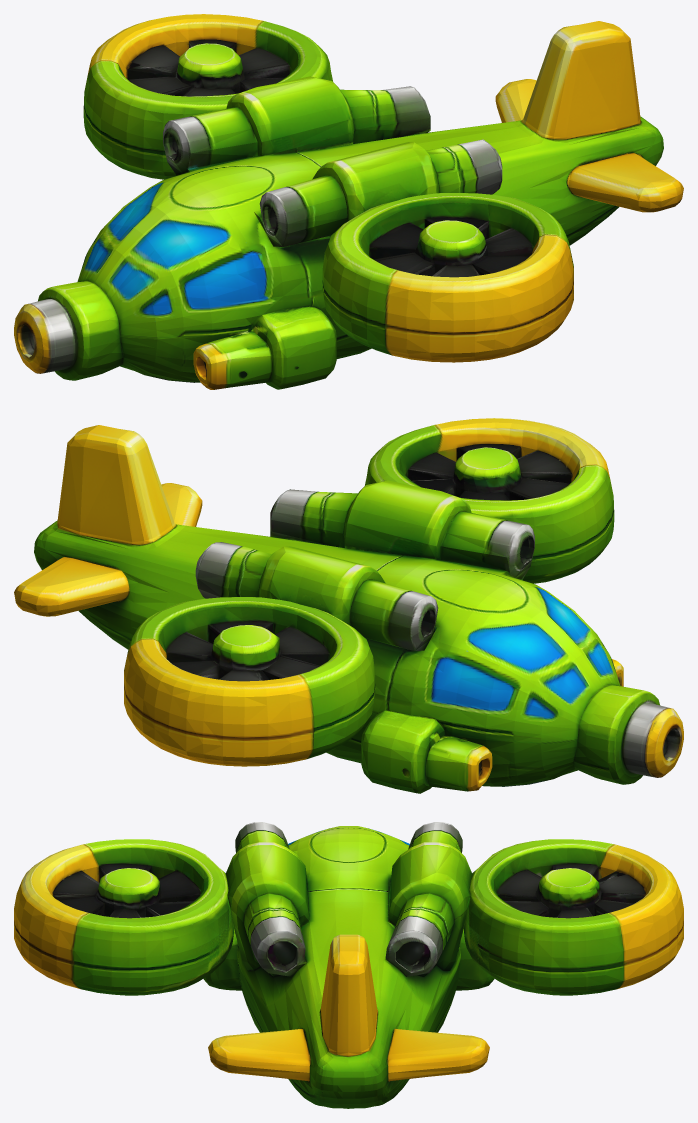
Rendered from Meshy_AI_Lime_Green_Toy_Helico_0705085950_texture.glb.
3 views of the same model, one above another, from view 1: azimuth 30°, elevation 25°; view 2: azimuth 150°, elevation 25°; view 3: azimuth 270°, elevation 25° (orthographic). The views are drawn at different scales.
Bounding box in the file's own units: 1.87 × 0.6849 × 1.91.
1 material, 1 textured.
